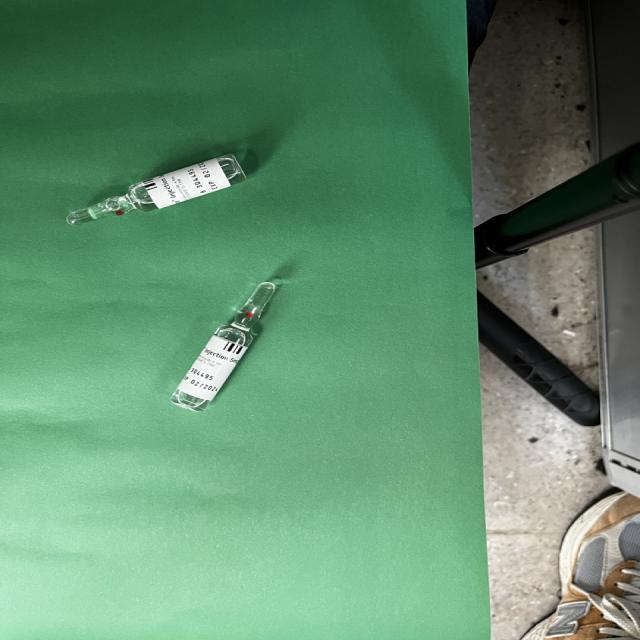Ampoules: (171, 282, 277, 412), (67, 154, 247, 225)
